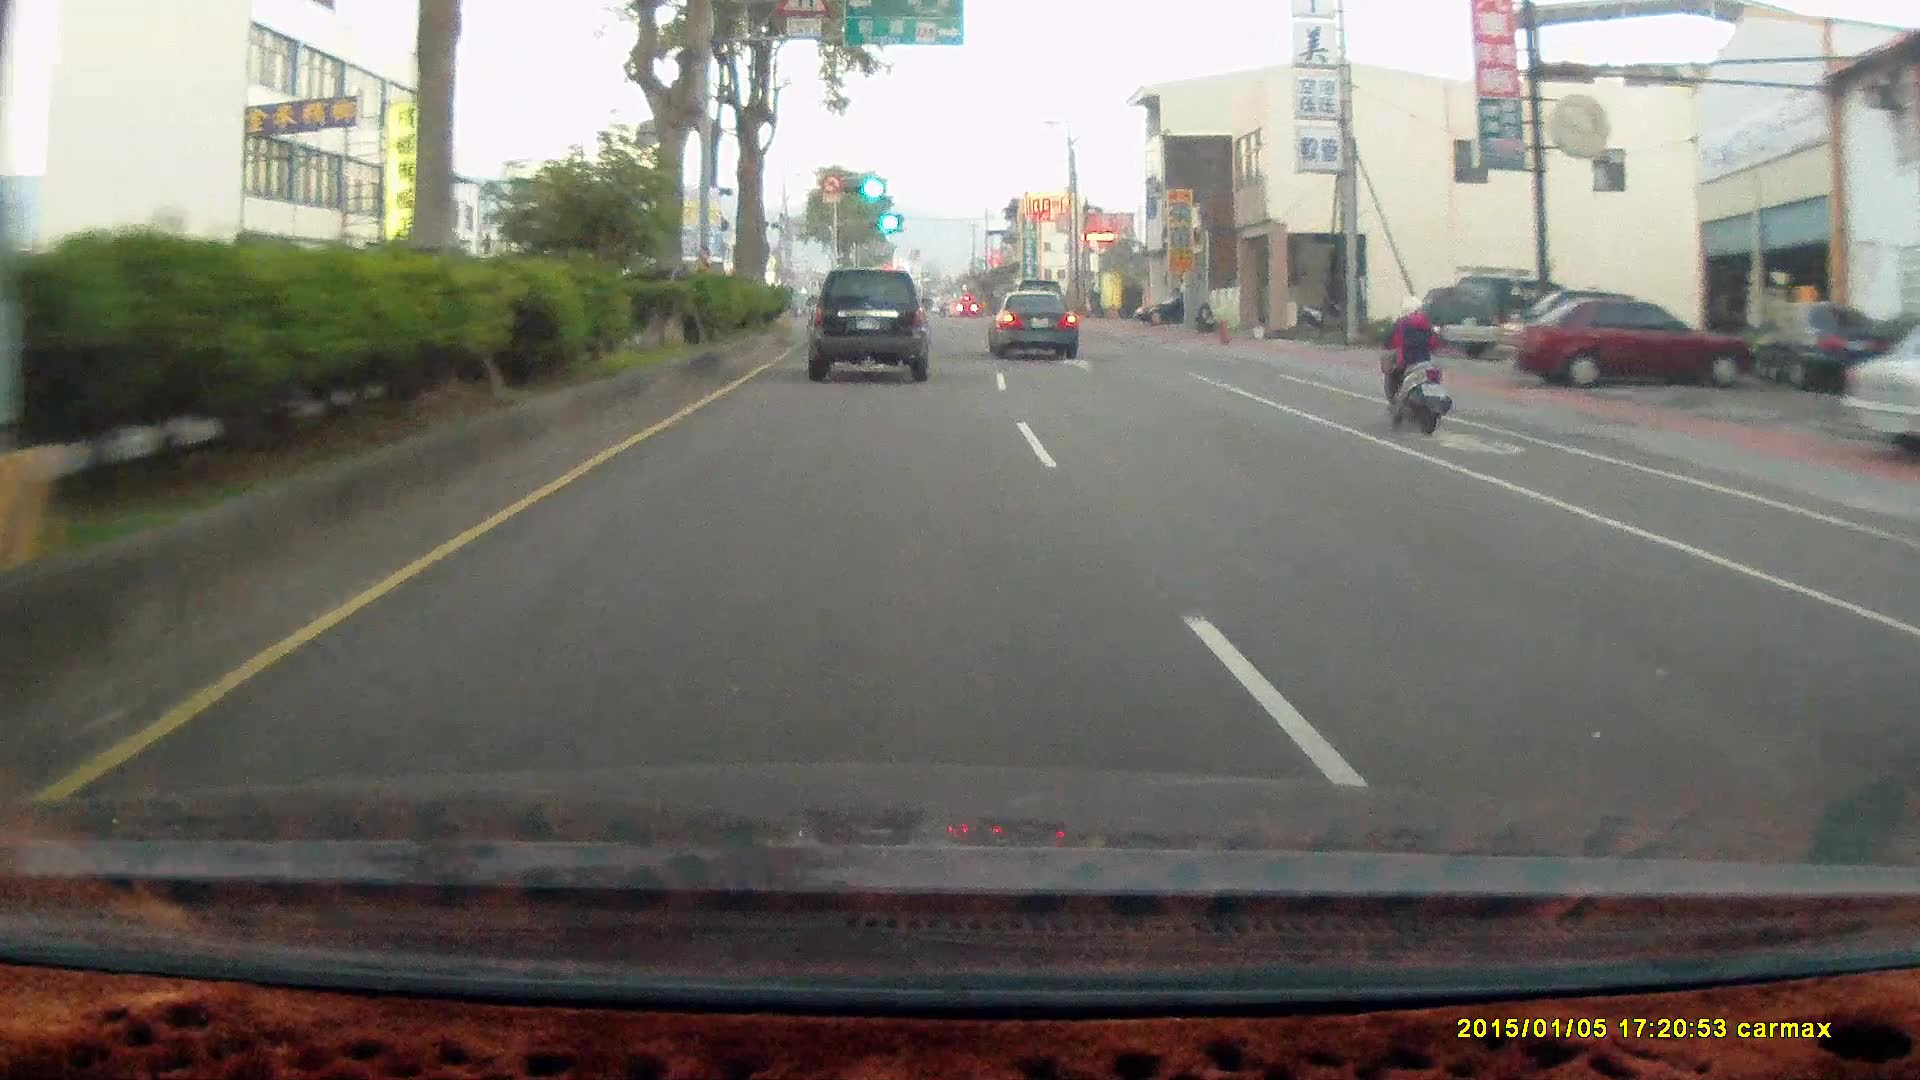rider: (1363, 285, 1466, 445), (1375, 291, 1450, 432)
vehicle: (1495, 295, 1752, 387), (1509, 297, 1738, 395), (809, 271, 933, 385), (808, 266, 931, 379), (1742, 301, 1893, 388), (1442, 273, 1582, 363), (1836, 310, 1920, 457), (1442, 274, 1588, 360), (986, 289, 1078, 360), (988, 291, 1080, 361), (1133, 290, 1214, 323)
